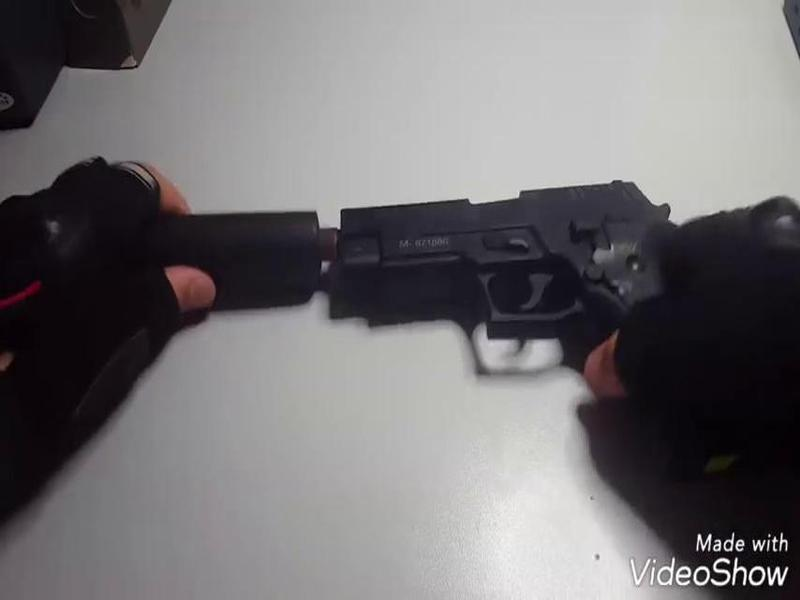Pistola: (333, 176, 757, 477)
